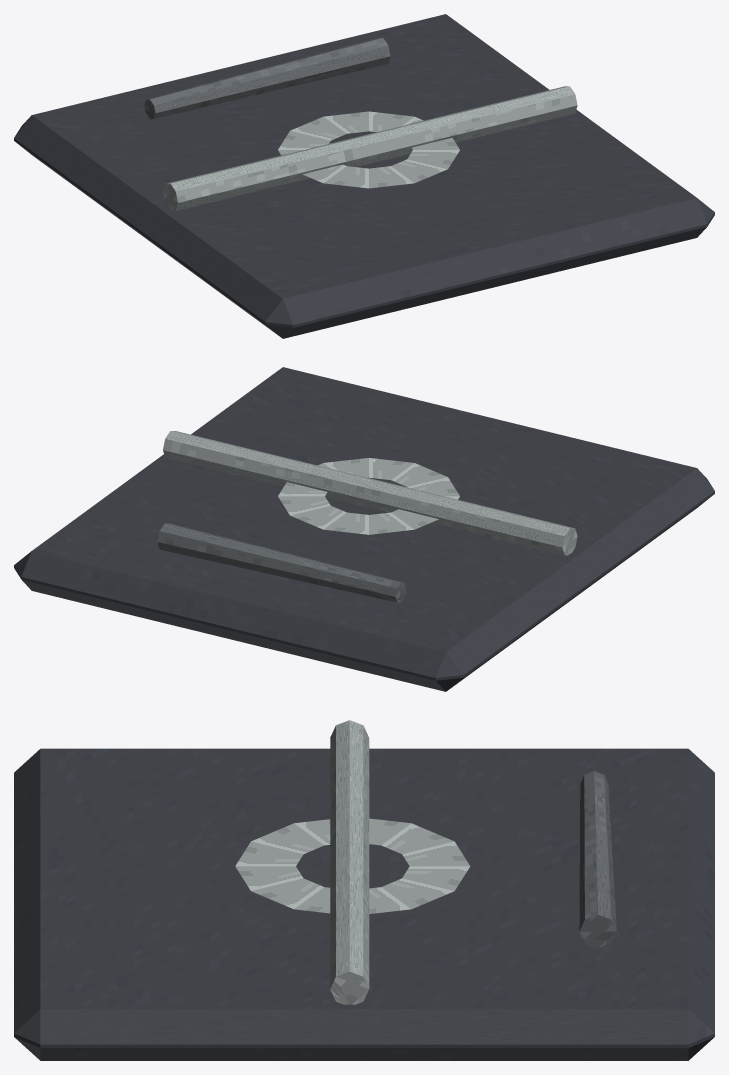
Rendered from thread_cutting_set.glb.
3 renders of one model, top to bottom at view 1: azimuth 30°, elevation 25°; view 2: azimuth 150°, elevation 25°; view 3: azimuth 270°, elevation 25°, orthographic. The views are drawn at different scales.
Visible parts, largest first — view 1: block_recessed kit tray, block_die holder, block_tap, block_steel threading die 2, block_steel threading die 8, block_steel threading die 3, block_steel threading die 9, block_steel threading die 4, block_steel threading die 1, block_steel threading die 7, block_steel threading die 10; view 2: block_recessed kit tray, block_die holder, block_tap, block_steel threading die 10, block_steel threading die 9, block_steel threading die 3, block_steel threading die 7, block_steel threading die 8, block_steel threading die 2, block_steel threading die 4, block_steel threading die 1; view 3: block_recessed kit tray, block_die holder, block_tap, block_steel threading die 3, block_steel threading die 8, block_steel threading die 1, block_steel threading die 7, block_steel threading die 10, block_steel threading die 4, block_steel threading die 9, block_steel threading die 2, block_steel threading die 6 (+3 smaller).
Part boxes in pixels (x1,y1,x2,y2): block_recessed kit tray: [14, 14, 714, 338]; block_die holder: [163, 86, 577, 210]; block_tap: [144, 38, 390, 119]; block_steel threading die 2: [391, 159, 447, 183]; block_steel threading die 8: [290, 116, 346, 140]; block_steel threading die 3: [369, 166, 413, 188]; block_steel threading die 9: [324, 111, 368, 133]; block_steel threading die 4: [324, 166, 368, 188]; block_steel threading die 1: [407, 150, 459, 168]; block_steel threading die 7: [278, 130, 330, 149]; block_steel threading die 10: [369, 111, 413, 132]; block_recessed kit tray: [14, 367, 714, 691]; block_die holder: [163, 431, 577, 555]; block_tap: [157, 523, 406, 602]; block_steel threading die 10: [278, 496, 330, 515]; block_steel threading die 9: [290, 505, 346, 529]; block_steel threading die 3: [391, 463, 447, 486]; block_steel threading die 7: [369, 512, 413, 534]; block_steel threading die 8: [324, 512, 368, 534]; block_steel threading die 2: [369, 458, 413, 479]; block_steel threading die 4: [407, 477, 459, 496]; block_steel threading die 1: [324, 458, 368, 477]; block_recessed kit tray: [14, 748, 714, 1060]; block_die holder: [330, 720, 369, 1004]; block_tap: [579, 771, 616, 947]; block_steel threading die 3: [235, 841, 303, 866]; block_steel threading die 8: [402, 841, 469, 866]; block_steel threading die 1: [251, 878, 323, 908]; block_steel threading die 7: [381, 823, 454, 854]; block_steel threading die 10: [381, 878, 454, 909]; block_steel threading die 4: [251, 823, 323, 854]; block_steel threading die 9: [402, 866, 469, 890]; block_steel threading die 2: [235, 866, 302, 890]; block_steel threading die 6: [369, 818, 410, 845].
Size of the model in its own units: 0.3822 by 0.0533 by 0.4.
1 material, 1 textured.
